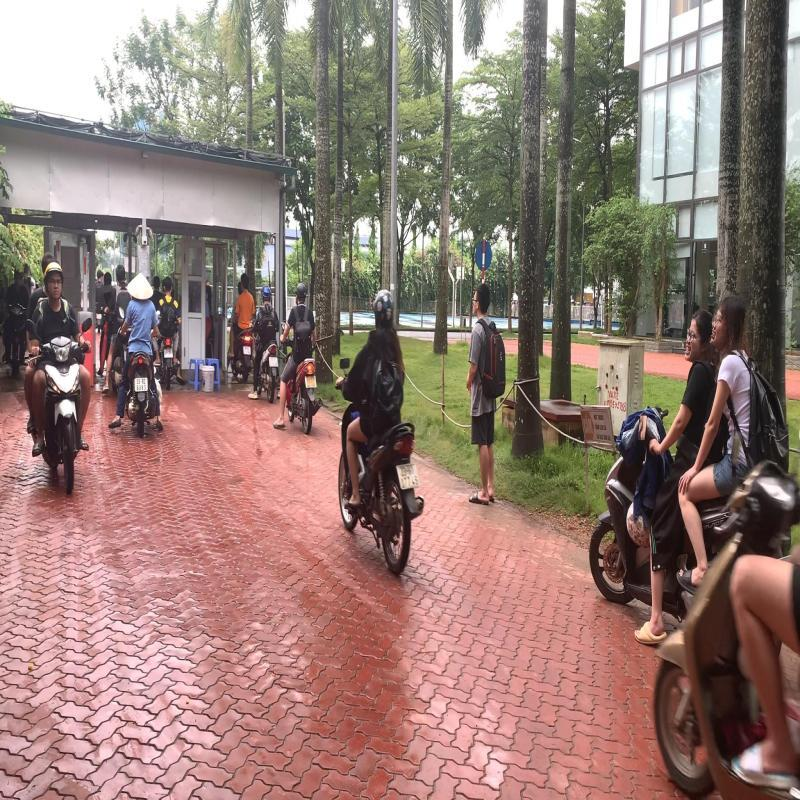nohelmet: (710, 291, 750, 355), (686, 305, 714, 363)
